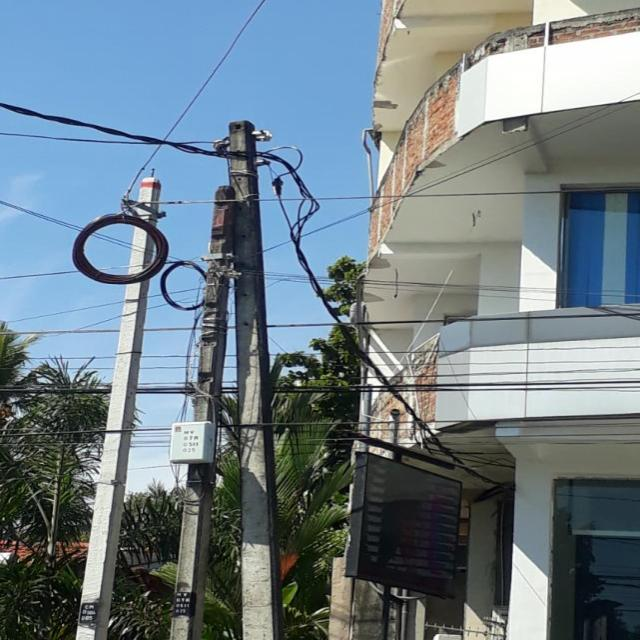light_pole: (72, 168, 169, 640), (170, 187, 248, 640), (215, 109, 281, 640)
